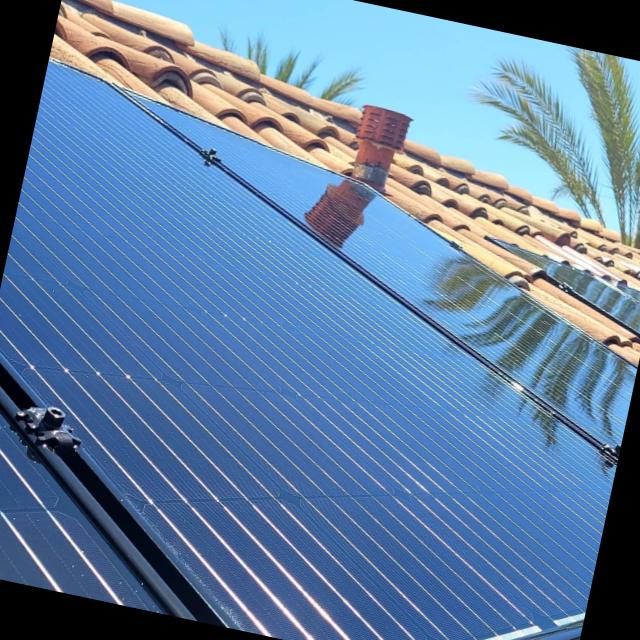no faulty: (0, 229, 638, 640)
